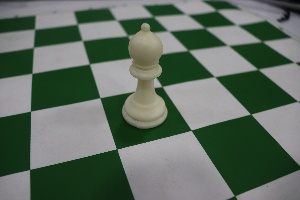white_bishop: (114, 13, 178, 134)
